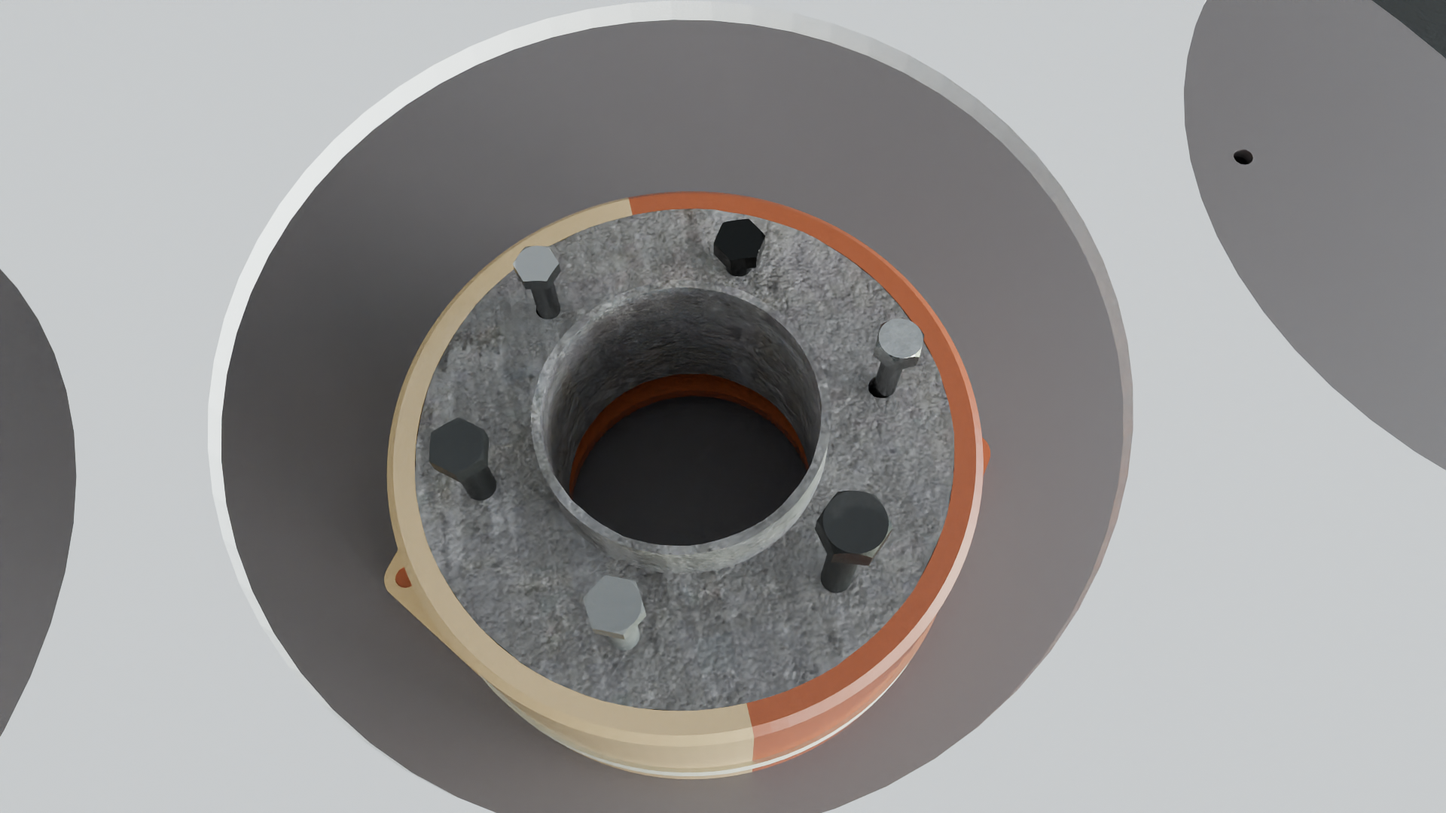bolt: (817, 491, 892, 558), (583, 575, 645, 635), (429, 417, 485, 475), (876, 318, 924, 363), (714, 219, 765, 261), (513, 245, 559, 282)
